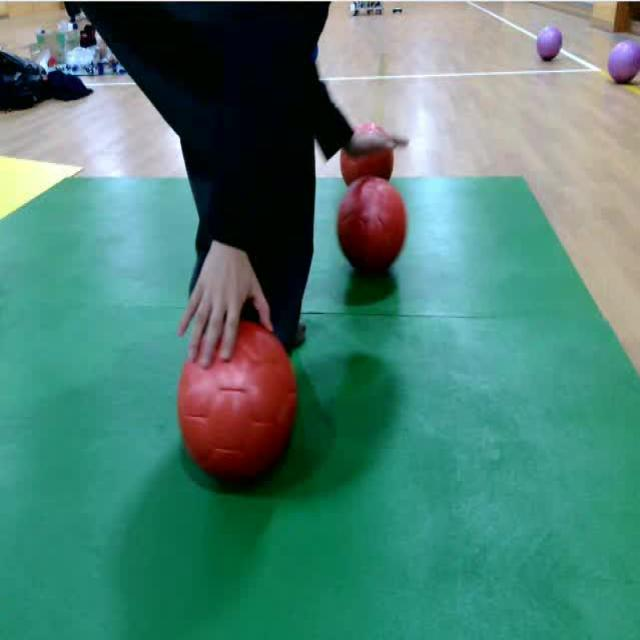red_ball: (175, 316, 301, 486), (335, 170, 412, 280), (338, 121, 402, 197)
